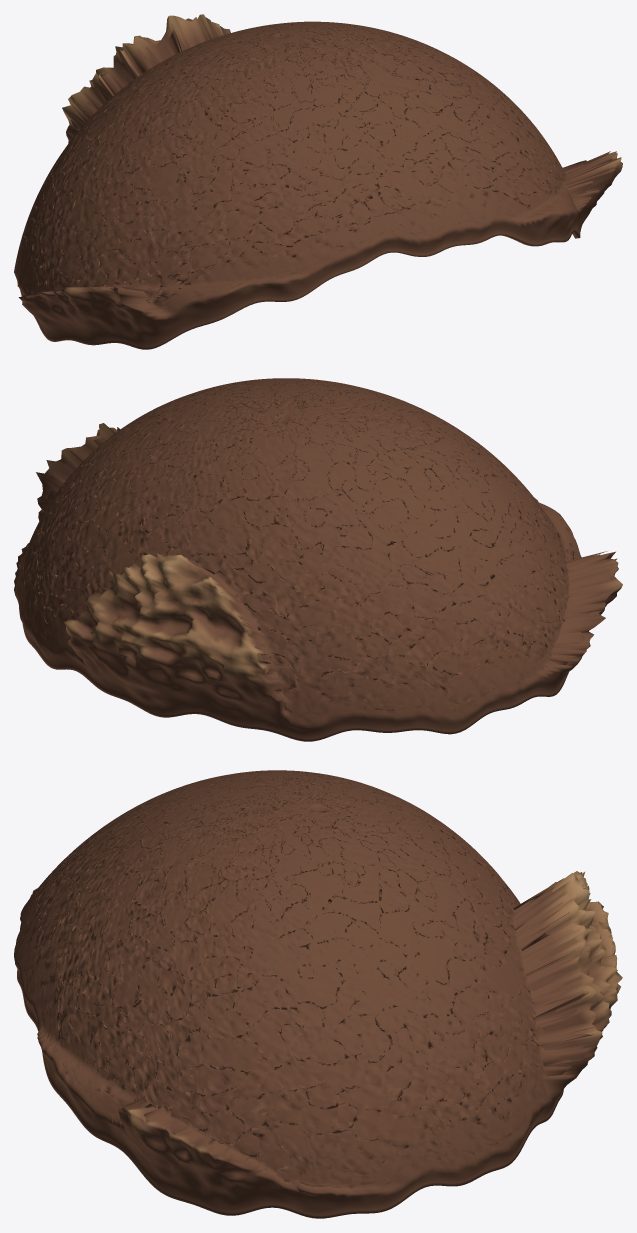
Rendered from Ombre-723f67051610253-hair.glb.
The picture shows the model from 3 angles, top to bottom: view 1: azimuth 30°, elevation 25°; view 2: azimuth 150°, elevation 25°; view 3: azimuth 270°, elevation 25°; orthographic projection. The views are drawn at different scales.
Visible parts, largest first — view 1: 226 hair / Hair252 / dense natural coil groups.001; view 2: 226 hair / Hair252 / dense natural coil groups.001; view 3: 226 hair / Hair252 / dense natural coil groups.001.
Part boxes in pixels (<box>): 226 hair / Hair252 / dense natural coil groups.001: <box>14,14,622,349</box>; 226 hair / Hair252 / dense natural coil groups.001: <box>14,378,622,741</box>; 226 hair / Hair252 / dense natural coil groups.001: <box>14,770,622,1218</box>.
Bounding box in the file's own units: 1.09 × 0.4183 × 0.8446.
Materials: 1 (1 with a texture image).
